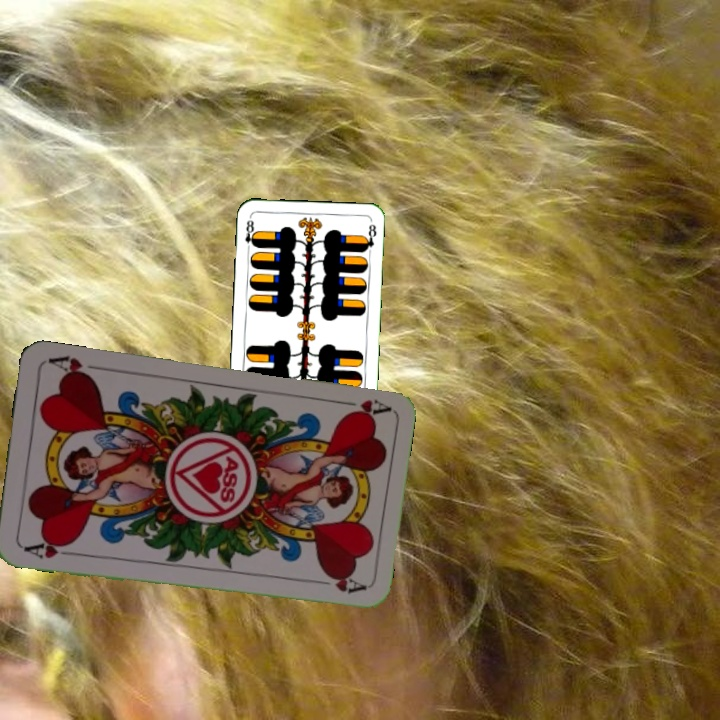E8: (241, 216, 259, 254)
HA: (331, 394, 391, 422), (20, 535, 77, 562)
